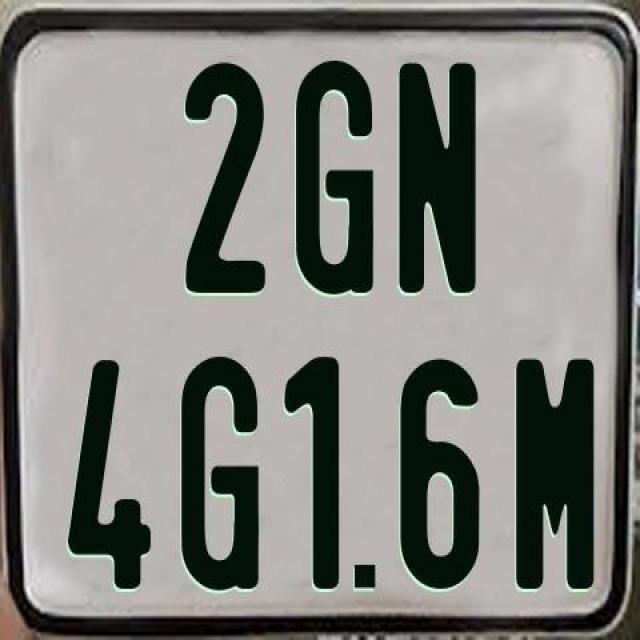1: (284, 353, 343, 592)
2: (182, 59, 266, 290)
4: (66, 357, 158, 586)
6: (400, 353, 487, 592)
G: (293, 58, 379, 294), (178, 357, 256, 592)
M: (516, 354, 596, 594)
N: (395, 61, 473, 301)
